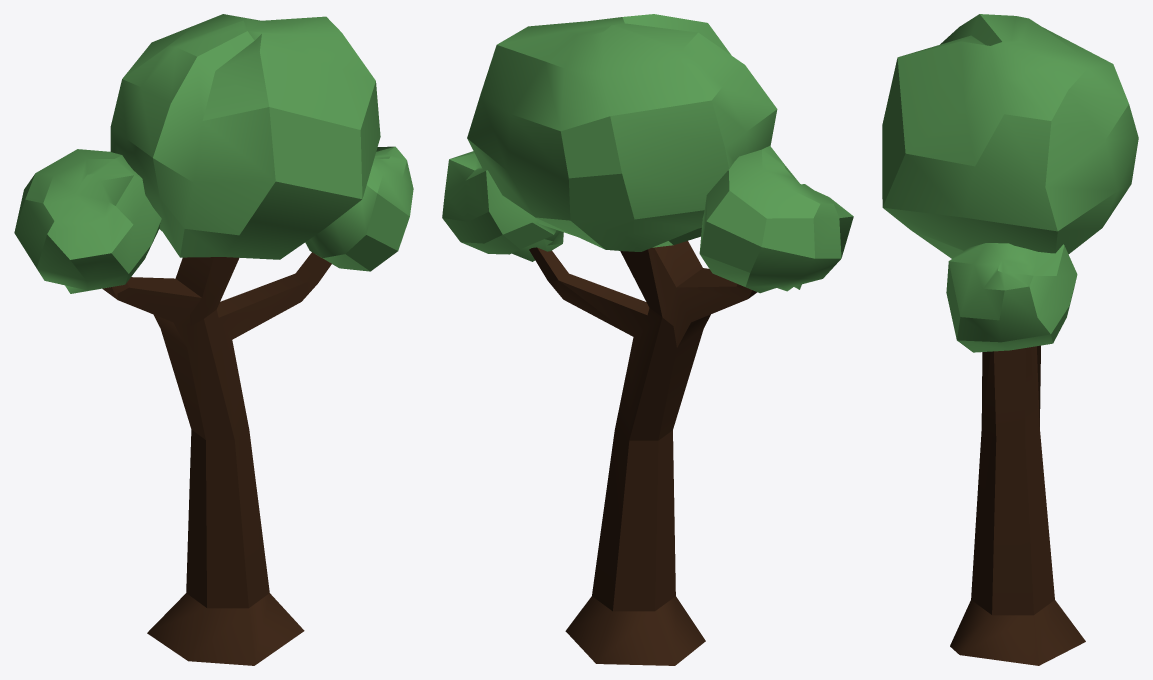
The model's file is tree.fbx.
The picture shows the model from 3 angles, left to right: view 1: azimuth 30°, elevation 25°; view 2: azimuth 150°, elevation 25°; view 3: azimuth 270°, elevation 25°; orthographic projection.
Visible parts, largest first — view 1: Sphere, Cylinder, Sphere.002, Sphere.001; view 2: Sphere, Cylinder, Sphere.002, Sphere.001; view 3: Sphere, Cylinder, Sphere.001.
Boxes of the visible parts, <box> form: Sphere: <box>110,14,380,259</box>; Cylinder: <box>102,252,331,665</box>; Sphere.002: <box>14,149,161,293</box>; Sphere.001: <box>305,146,413,271</box>; Sphere: <box>467,14,777,251</box>; Cylinder: <box>529,241,757,665</box>; Sphere.002: <box>699,146,853,293</box>; Sphere.001: <box>442,151,563,261</box>; Sphere: <box>882,14,1138,258</box>; Cylinder: <box>950,345,1085,665</box>; Sphere.001: <box>946,243,1077,352</box>.
Bounding box in the file's own units: 261 × 405 × 153.
